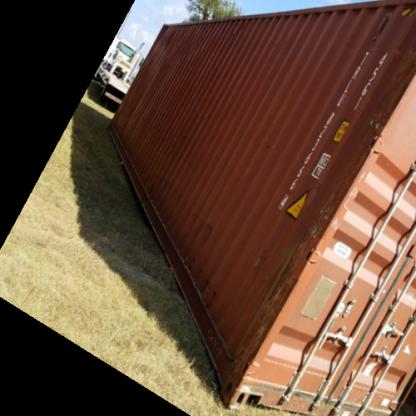Damage: (240, 253, 304, 394), (153, 168, 220, 239), (368, 102, 387, 156), (159, 23, 174, 44)
